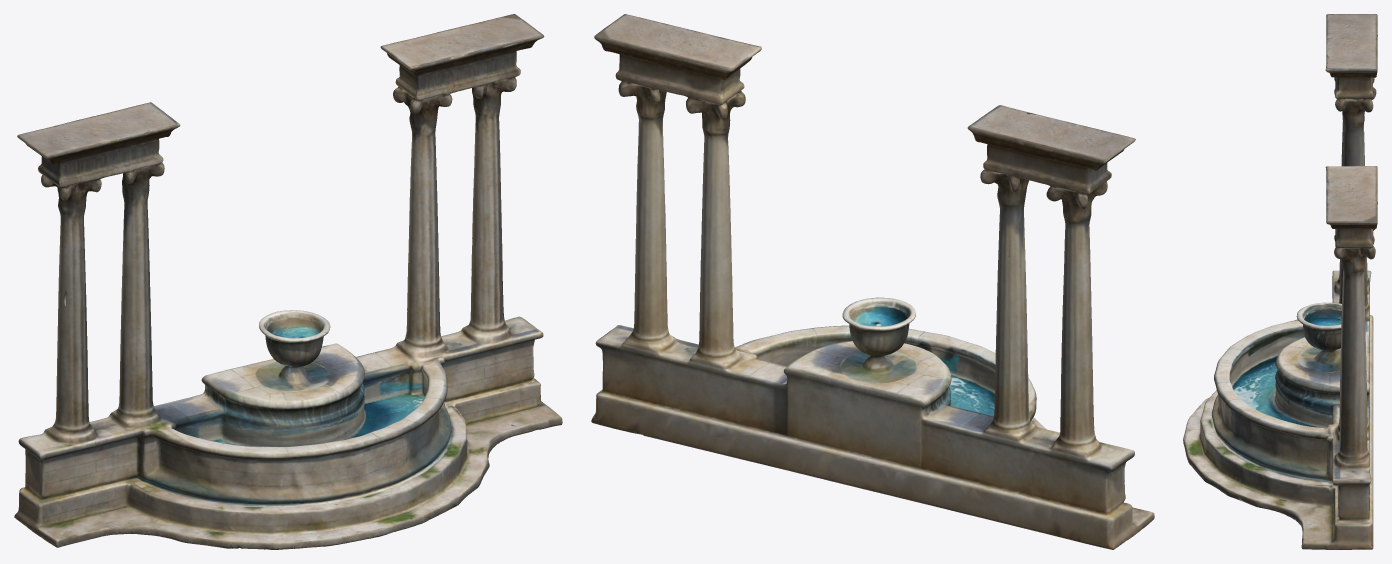
Rendered from fountain_temple.glb.
The picture shows the model from 3 angles, left to right: view 1: azimuth 30°, elevation 25°; view 2: azimuth 150°, elevation 25°; view 3: azimuth 270°, elevation 25°; orthographic projection. The views are drawn at different scales.
Visible parts, largest first — view 1: fountain_temple; view 2: fountain_temple; view 3: fountain_temple.
Part boxes in pixels (box(x1,y1,x2,y2)): fountain_temple: box(14, 14, 562, 549); fountain_temple: box(591, 14, 1154, 549); fountain_temple: box(1183, 14, 1377, 549).
Bounding box in the file's own units: 2 × 1.43 × 0.772.
1 material, 1 textured.
